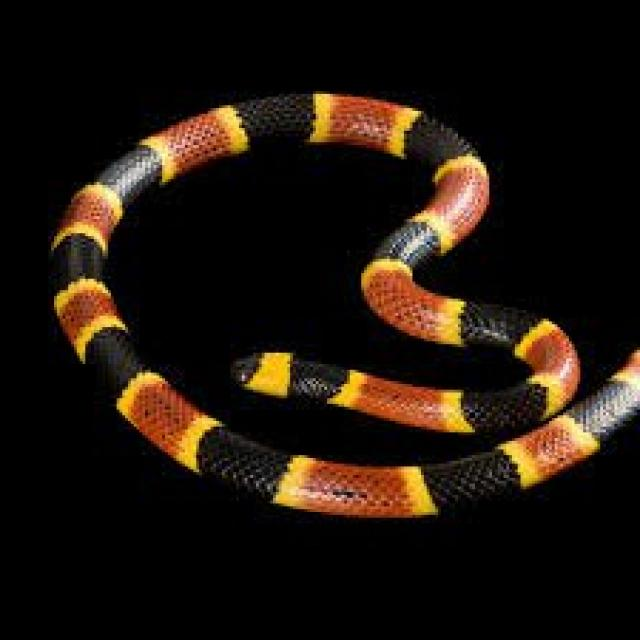snake: (54, 94, 640, 515)
